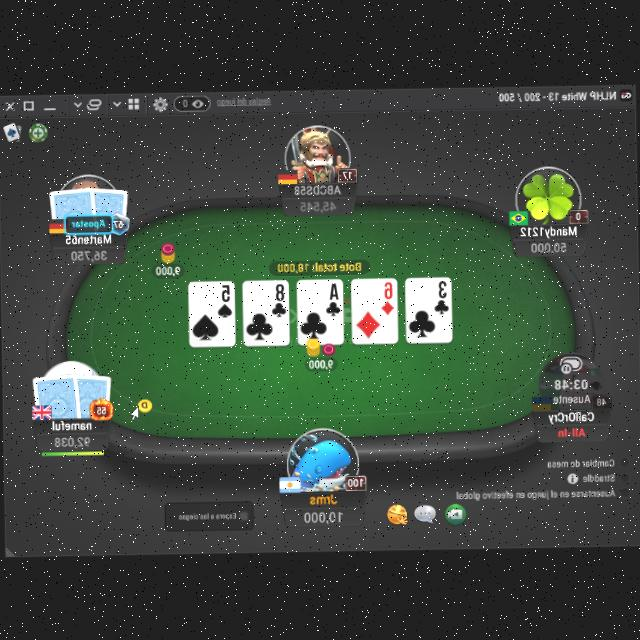3c: (432, 279, 449, 315)
5s: (216, 281, 233, 318)
6d: (379, 278, 396, 316)
8c: (270, 282, 288, 318)
Ac: (323, 282, 342, 316)
all_in_symbol: (558, 425, 586, 436)
bet_text: (307, 357, 333, 368), (154, 264, 182, 274)
card_back: (46, 182, 100, 233), (29, 369, 82, 420), (86, 183, 130, 232), (72, 370, 114, 420)
dealer: (134, 394, 154, 412)
pot_text: (274, 258, 362, 272)
stack_text: (301, 506, 344, 524), (70, 246, 108, 262), (299, 196, 337, 212), (53, 432, 91, 447), (528, 238, 566, 252)
